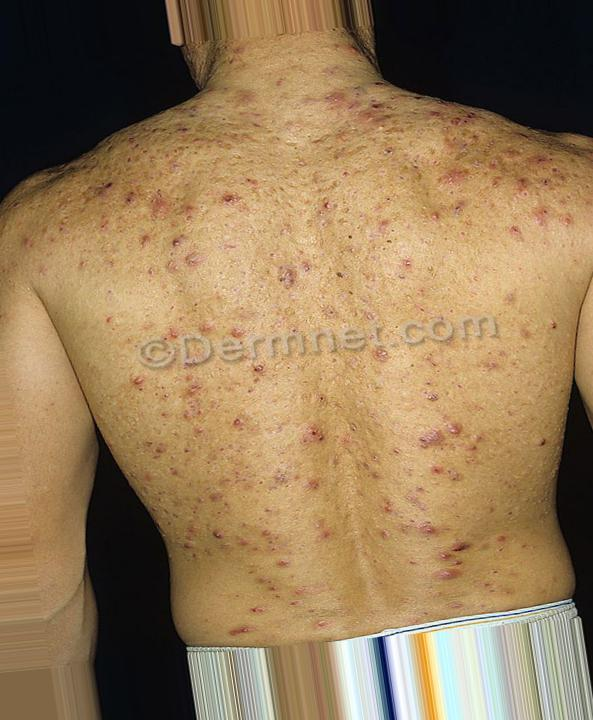Acne: (135, 180, 212, 281), (517, 163, 589, 262), (403, 422, 491, 494), (419, 515, 474, 592), (327, 85, 395, 132), (230, 596, 274, 641), (425, 162, 466, 199), (297, 416, 326, 452)
